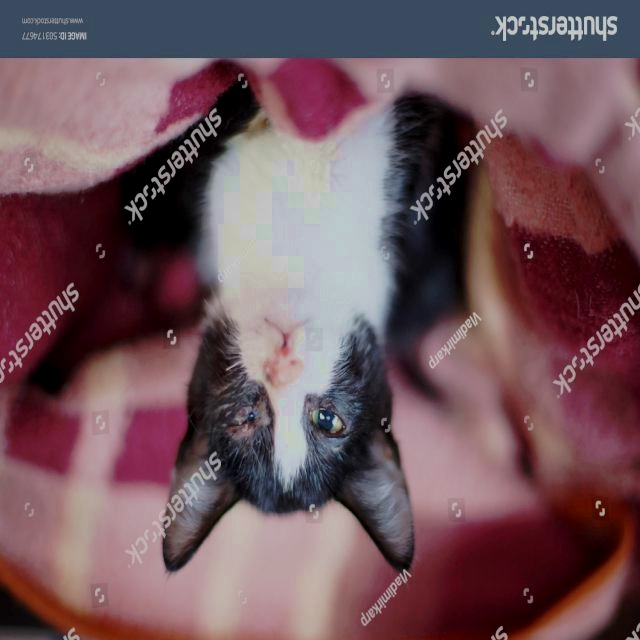eye_infection: (307, 402, 346, 442), (229, 407, 255, 437)
